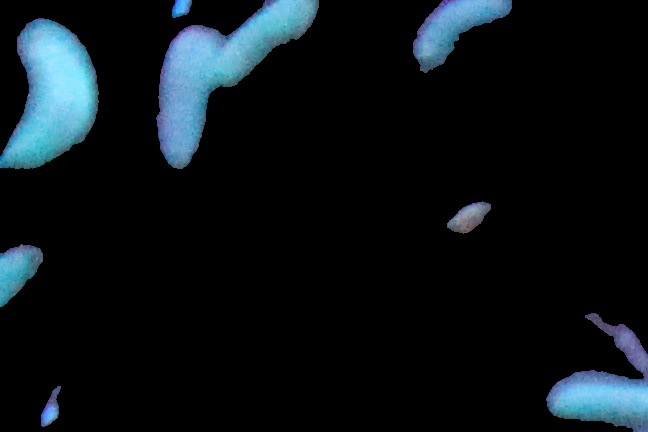larvae: (2, 17, 100, 171), (156, 25, 222, 169), (219, 1, 318, 88), (411, 1, 513, 72), (545, 369, 648, 427)
